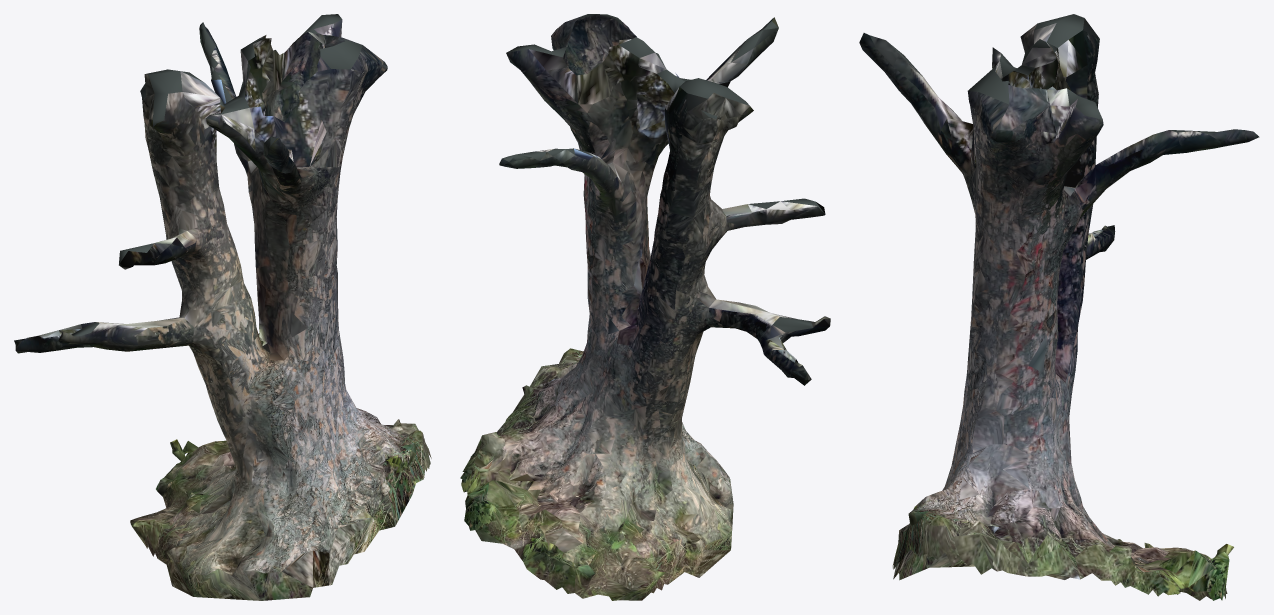
Rendered from magda2.glb.
3 renders of one model, left to right at view 1: azimuth 30°, elevation 25°; view 2: azimuth 150°, elevation 25°; view 3: azimuth 270°, elevation 25°, orthographic. The views are drawn at different scales.
Parts seen in each view (by area): view 1: model.002; view 2: model.002; view 3: model.002.
Boxes of the visible parts, <box> form: model.002: <box>14,14,431,600</box>; model.002: <box>460,14,830,600</box>; model.002: <box>859,14,1259,600</box>.
Size of the model in its own units: 3.21 by 4.66 by 2.91.
Materials: 2 (2 with a texture image).
